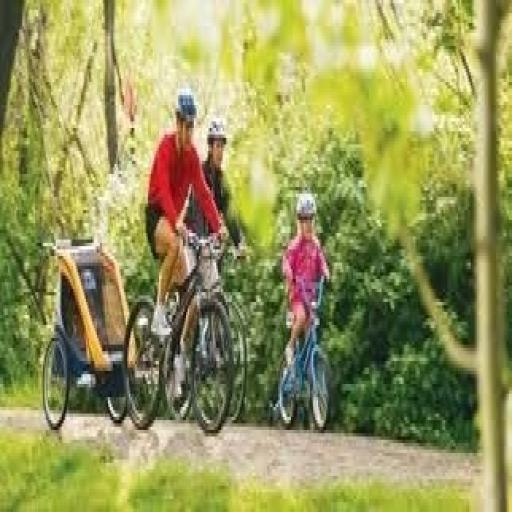cycling: (143, 86, 231, 410), (274, 174, 342, 450)
